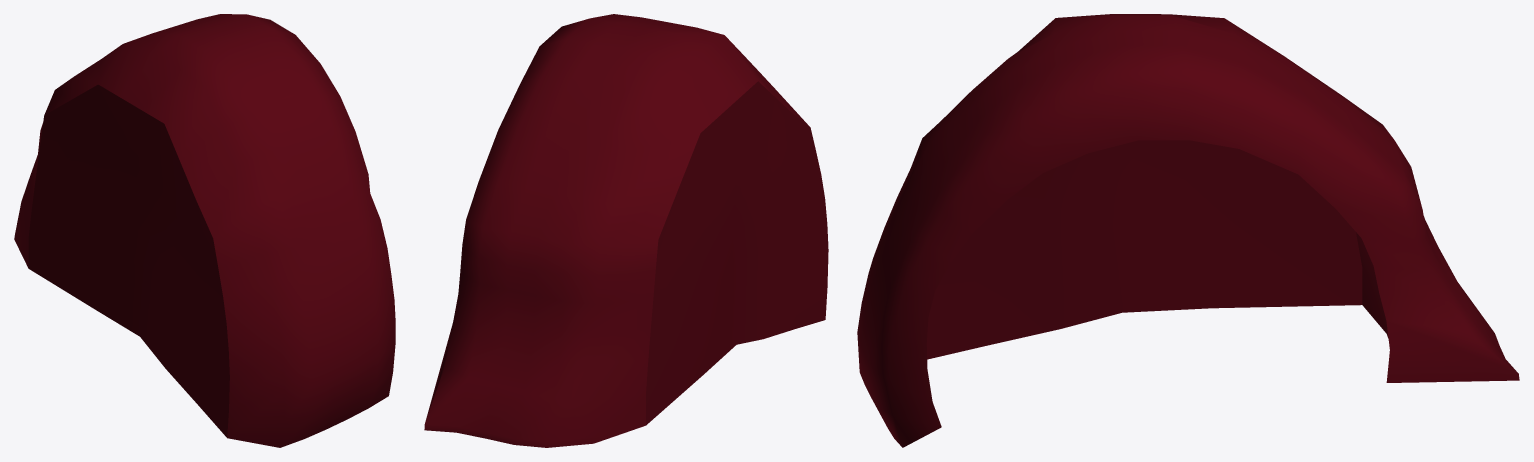
The model's file is NashTT.ArcRL.glb.
3 views of the same model, side by side, from view 1: azimuth 30°, elevation 25°; view 2: azimuth 150°, elevation 25°; view 3: azimuth 270°, elevation 25° (orthographic). The views are drawn at different scales.
Visible parts, largest first — view 1: Cube.r.001; view 2: Cube.r.001; view 3: Cube.r.001.
Boxes of the visible parts, x1=… form: Cube.r.001: x1=14, y1=14, x2=395, y2=447; Cube.r.001: x1=424, y1=14, x2=828, y2=447; Cube.r.001: x1=857, y1=14, x2=1519, y2=447.
Bounding box in the file's own units: 0.7918 × 1.33 × 2.05.
